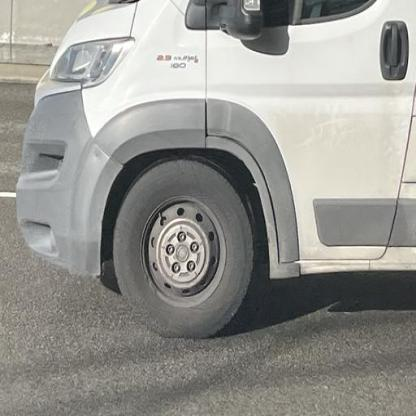Tire: (112, 161, 253, 339)
